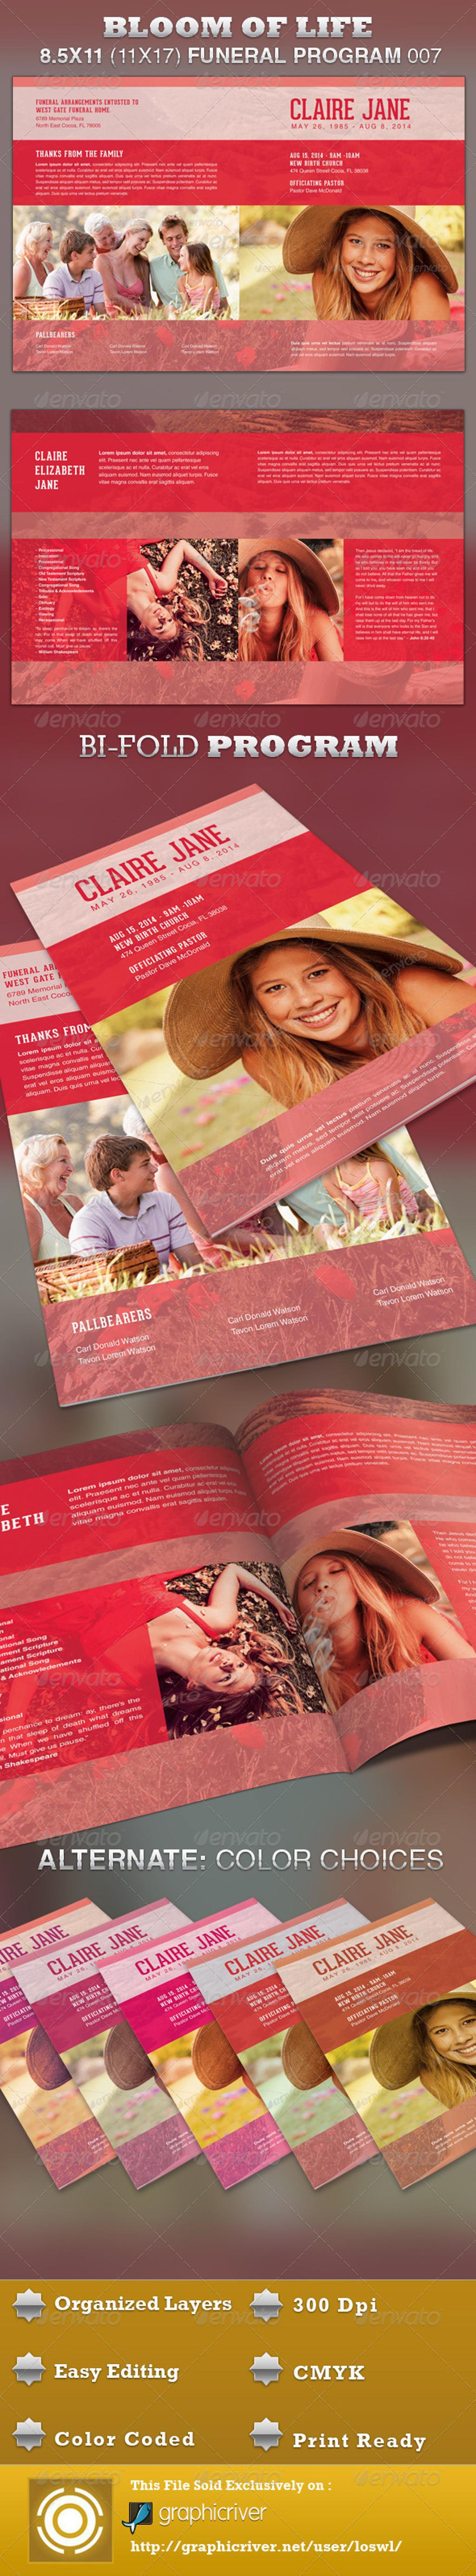face: (253, 952, 362, 1040), (298, 1556, 357, 1623), (341, 223, 397, 293), (428, 2006, 476, 2065), (247, 550, 291, 607), (195, 1648, 254, 1690), (37, 1147, 73, 1191), (121, 1152, 158, 1191), (146, 605, 175, 637), (165, 228, 186, 256), (128, 233, 152, 255), (77, 243, 97, 269), (34, 232, 53, 259), (96, 229, 116, 250), (179, 250, 192, 271)
